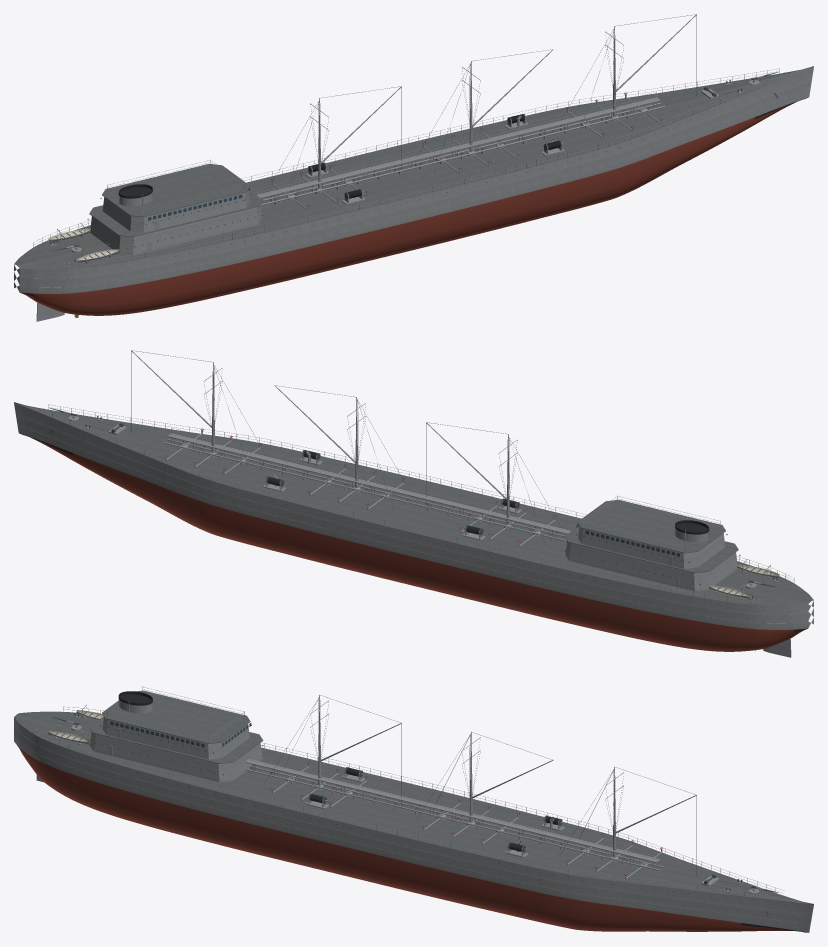
The model's file is de_support_1942.glb.
3 renders of one model, top to bottom at view 1: azimuth 30°, elevation 25°; view 2: azimuth 150°, elevation 25°; view 3: azimuth 330°, elevation 25°, orthographic.
Parts seen in each view (by area): view 1: Fleet support ship · 1942; view 2: Fleet support ship · 1942; view 3: Fleet support ship · 1942.
Part boxes in pixels (left/top/right/bottom): Fleet support ship · 1942: left=14, top=14, right=813, bottom=321; Fleet support ship · 1942: left=14, top=350, right=813, bottom=657; Fleet support ship · 1942: left=14, top=686, right=813, bottom=932.
Size of the model in its own units: 154 by 29.11 by 19.09.
Materials: 9 (2 with a texture image).
